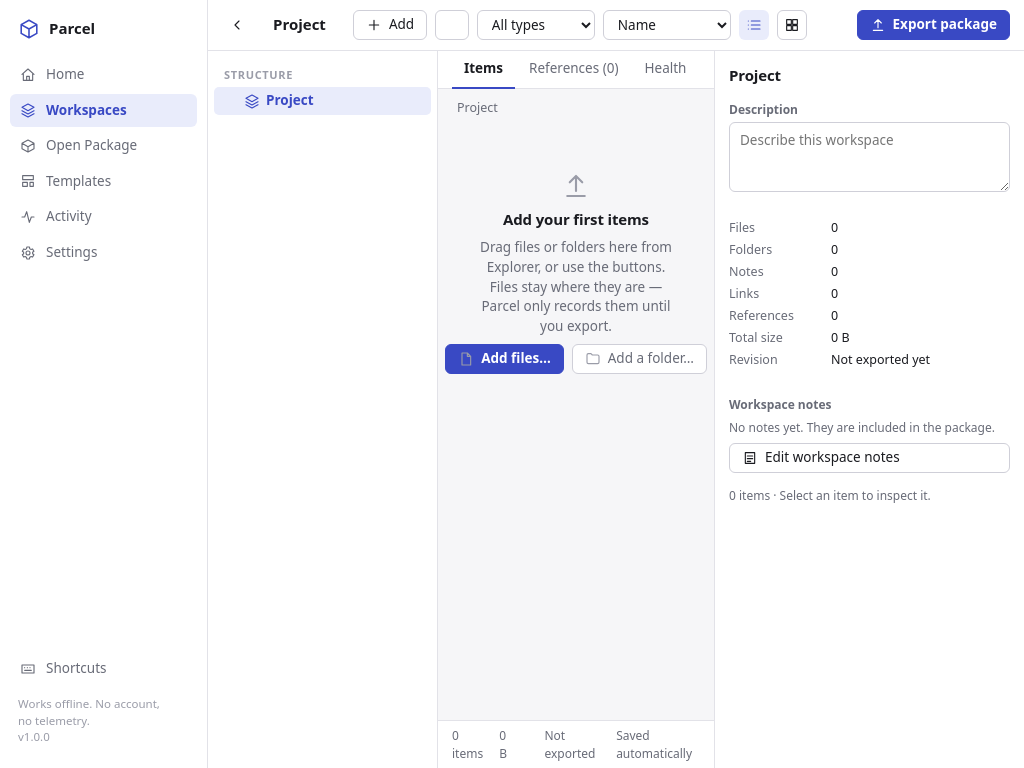
Test case: adding and removing entries › shows a clear error when an operation fails
What coordinates should you click on to do the following:
click the button "Add files…"
I would click on:
 (504, 359)
Its box is [445,344,564,374].
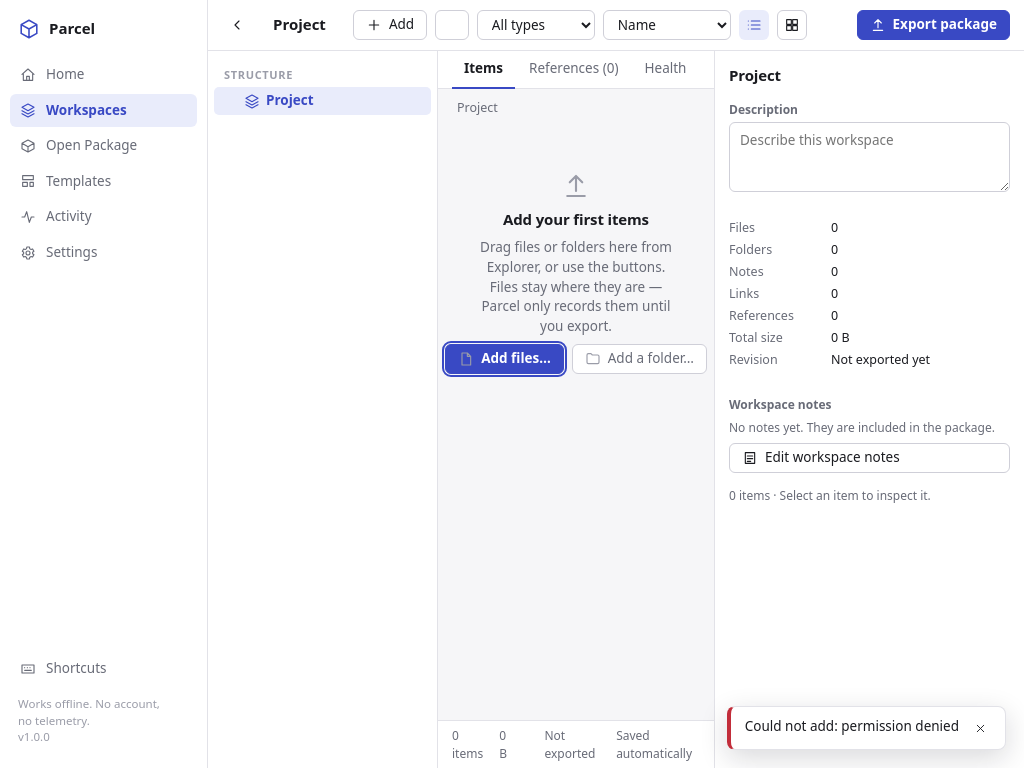
Now the text "Could not add: permission denied" is shown, box [745,717,959,737]
